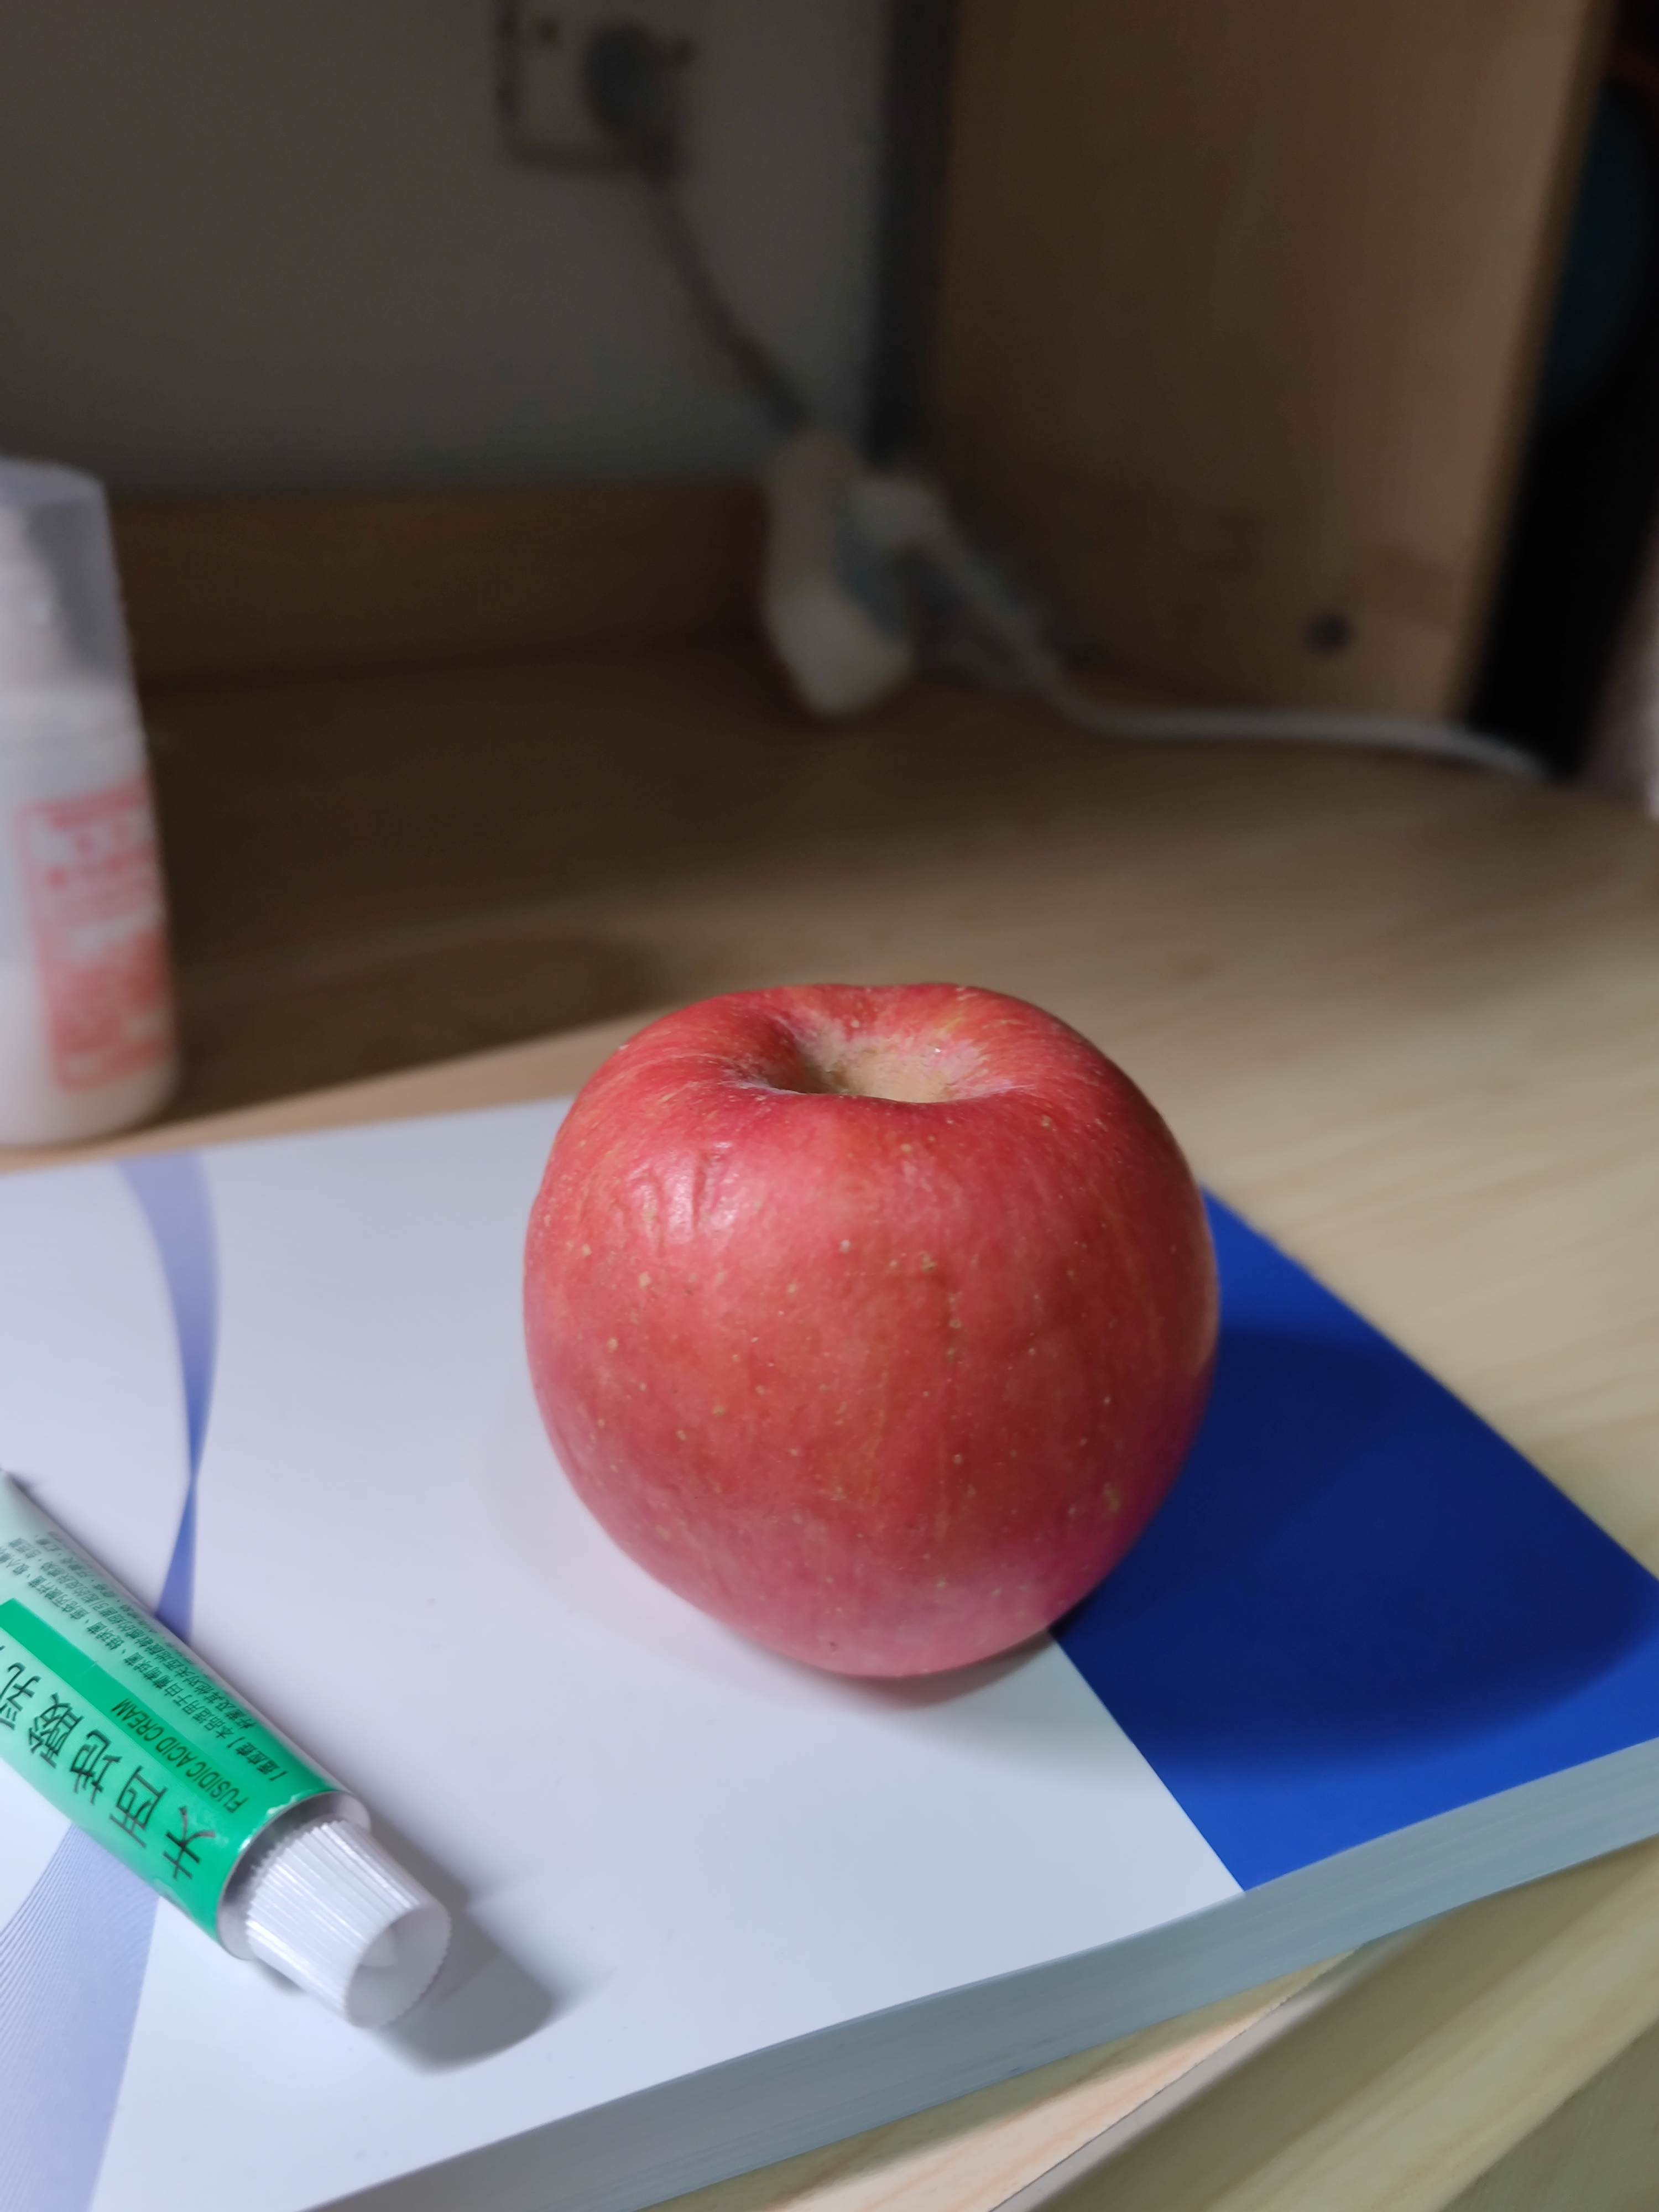apple: (519, 982, 1229, 1705)
